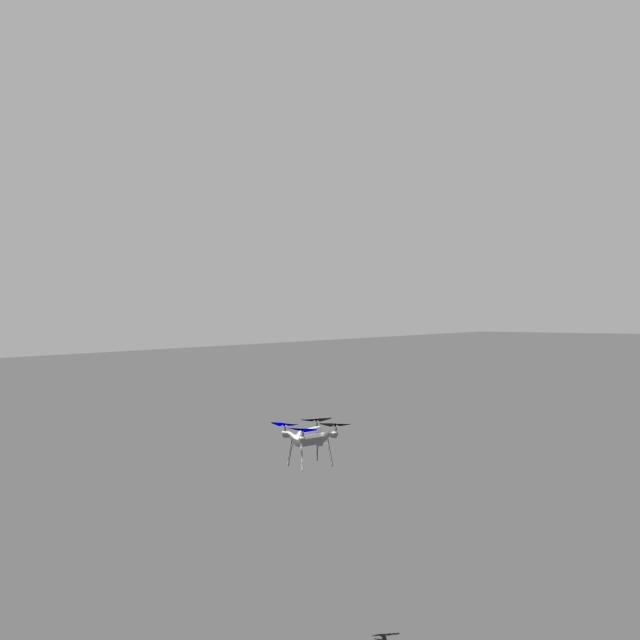Drone: (269, 410, 354, 473)
